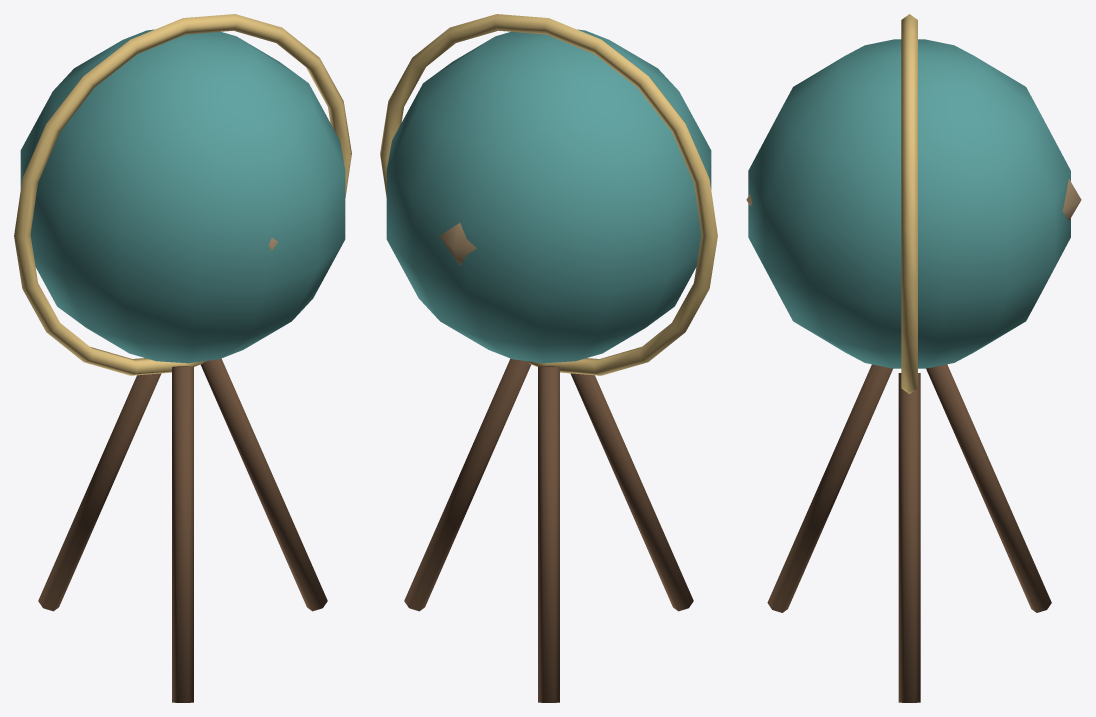
Rendered from hm_globe.glb.
The picture shows the model from 3 angles, left to right: view 1: azimuth 30°, elevation 25°; view 2: azimuth 150°, elevation 25°; view 3: azimuth 270°, elevation 25°; orthographic projection.
Parts seen in each view (by area): view 1: hm_globe; view 2: hm_globe; view 3: hm_globe.
Boxes of the visible parts, x1,y1,x2,y2 form: hm_globe: (14, 14, 351, 702); hm_globe: (380, 14, 717, 702); hm_globe: (746, 14, 1081, 702).
Bounding box in the file's own units: 0.88 × 1.55 × 0.77.
